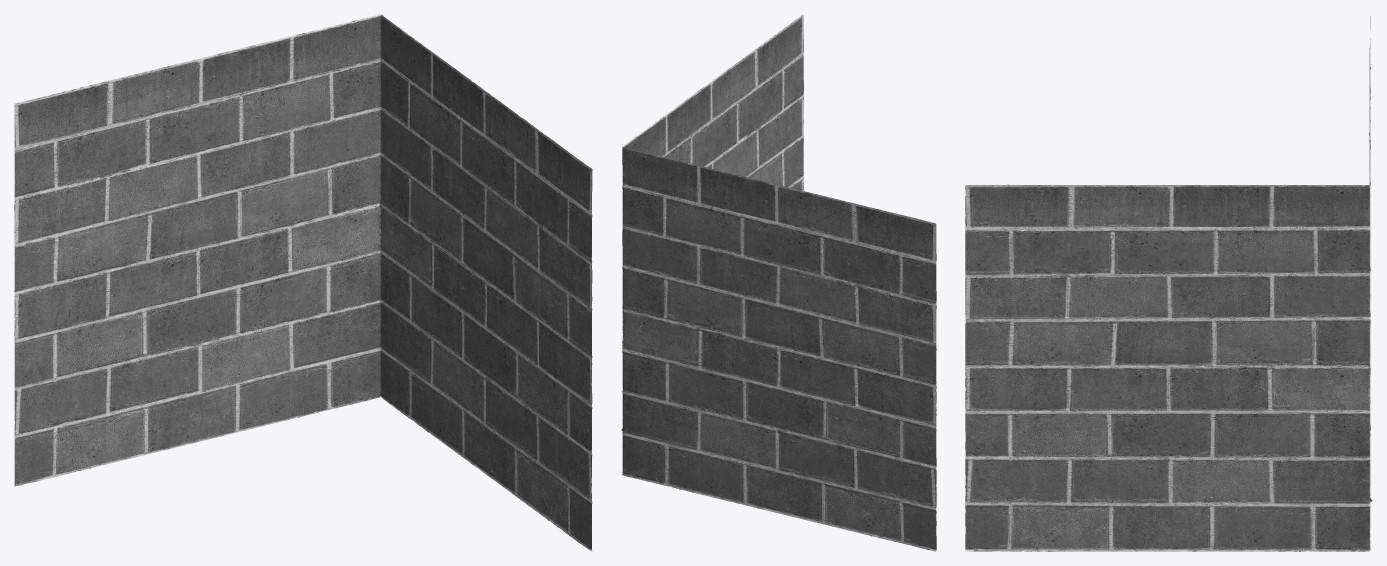
File: SM_Sewer_Wall_Cinder_01d.fbx
The picture shows the model from 3 angles, left to right: view 1: azimuth 30°, elevation 25°; view 2: azimuth 150°, elevation 25°; view 3: azimuth 270°, elevation 25°; orthographic projection. The views are drawn at different scales.
Parts seen in each view (by area): view 1: SM_Sewer_Wall_Cinder_01d_LOD0; view 2: SM_Sewer_Wall_Cinder_01d_LOD0; view 3: SM_Sewer_Wall_Cinder_01d_LOD0.
Part boxes in pixels (bbox=[...]): SM_Sewer_Wall_Cinder_01d_LOD0: bbox=[14, 14, 592, 551]; SM_Sewer_Wall_Cinder_01d_LOD0: bbox=[621, 14, 936, 551]; SM_Sewer_Wall_Cinder_01d_LOD0: bbox=[965, 16, 1372, 551].
Size of the model in its own units: 201 by 201 by 200.
